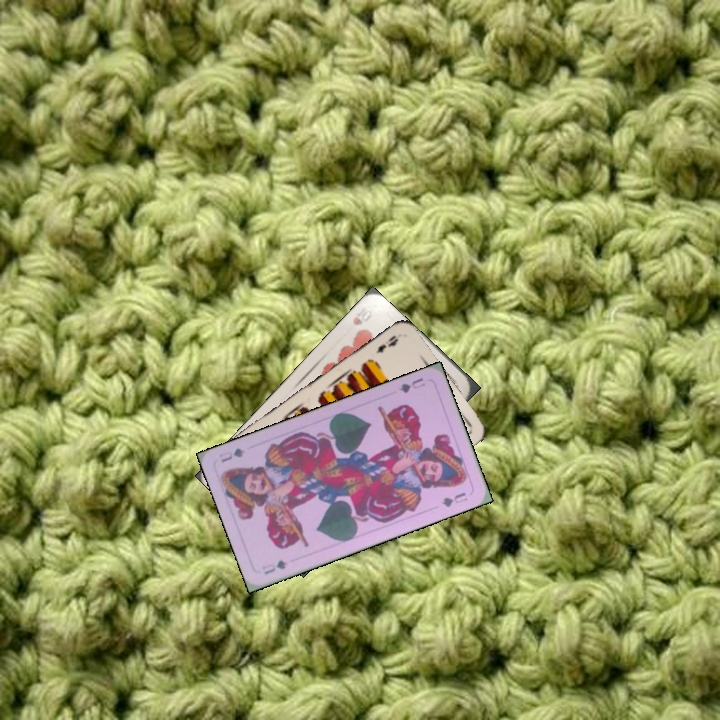E9: (372, 331, 401, 356)
GU: (395, 374, 428, 396), (258, 556, 290, 577)
H10: (349, 304, 375, 328)
